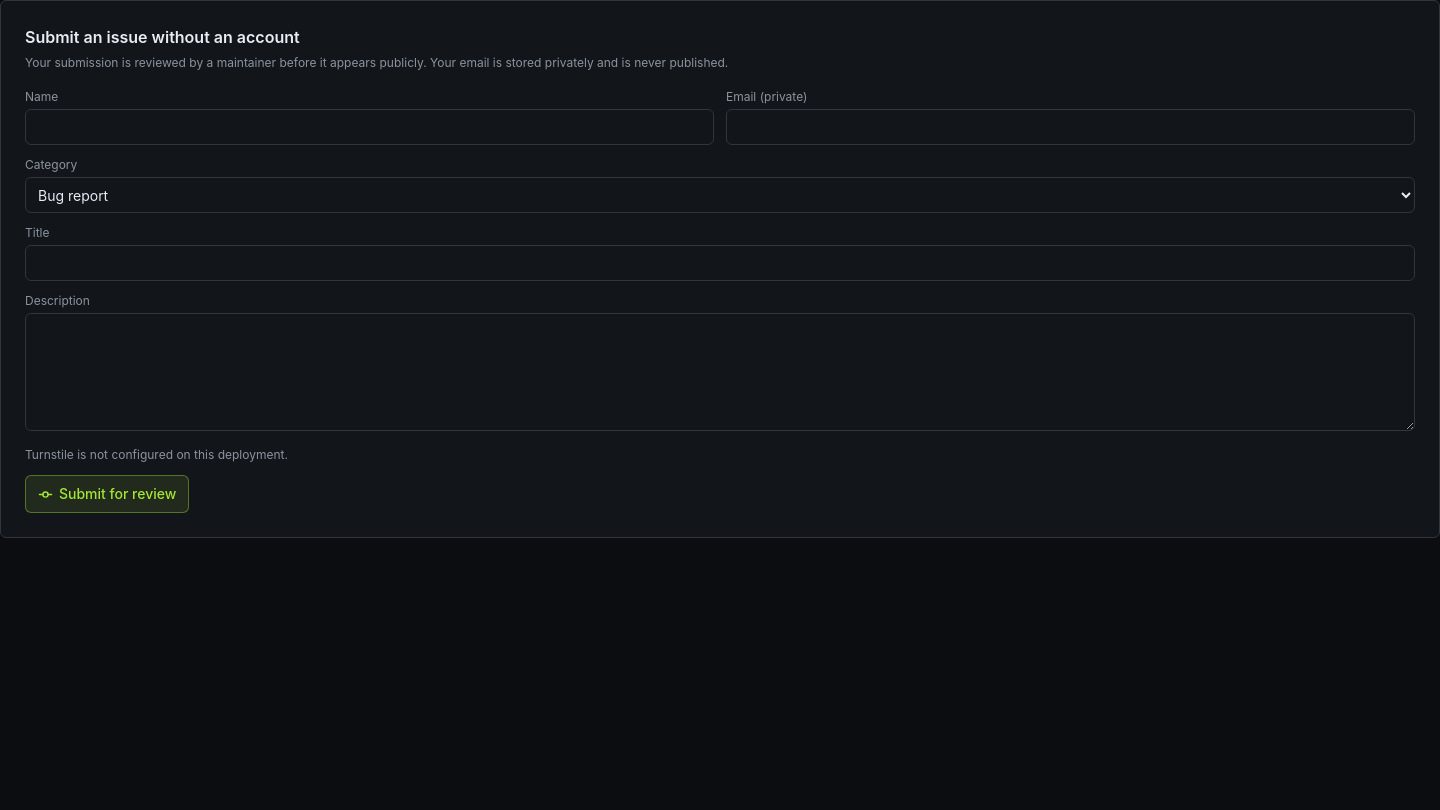
GuestIssueForm › submits a verified request and shows the review notice
The width and height of the screenshot is (1440, 810).
Expected: the button "Submit for review" is shown, [25,475,189,513]
Step 1. Type "Ada" into the field labelled "Name" → (370, 127), box [25,109,714,145]
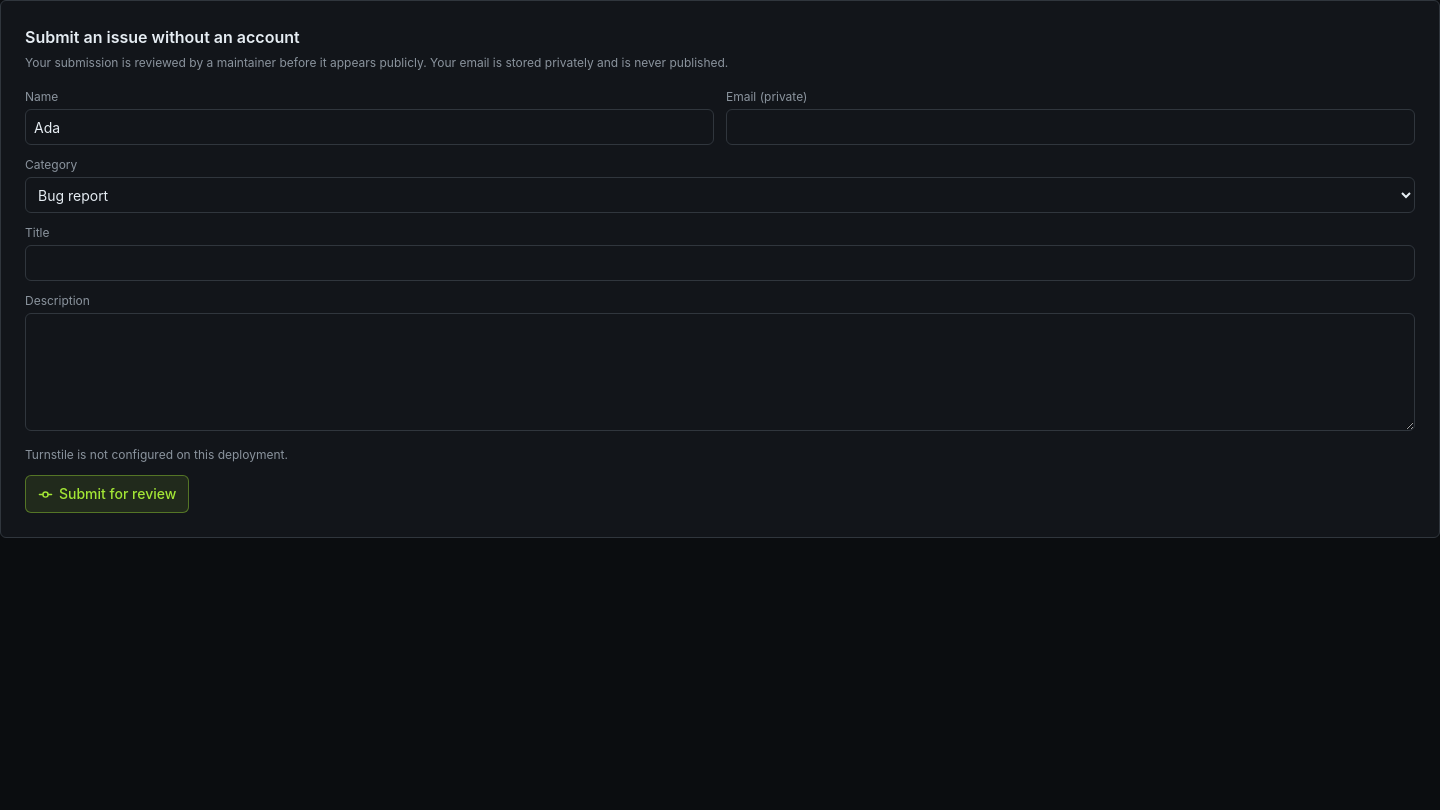
Step 2. Type "ada@example.test" into the field labelled "Email (private)" → (1070, 127), box [726,109,1415,145]
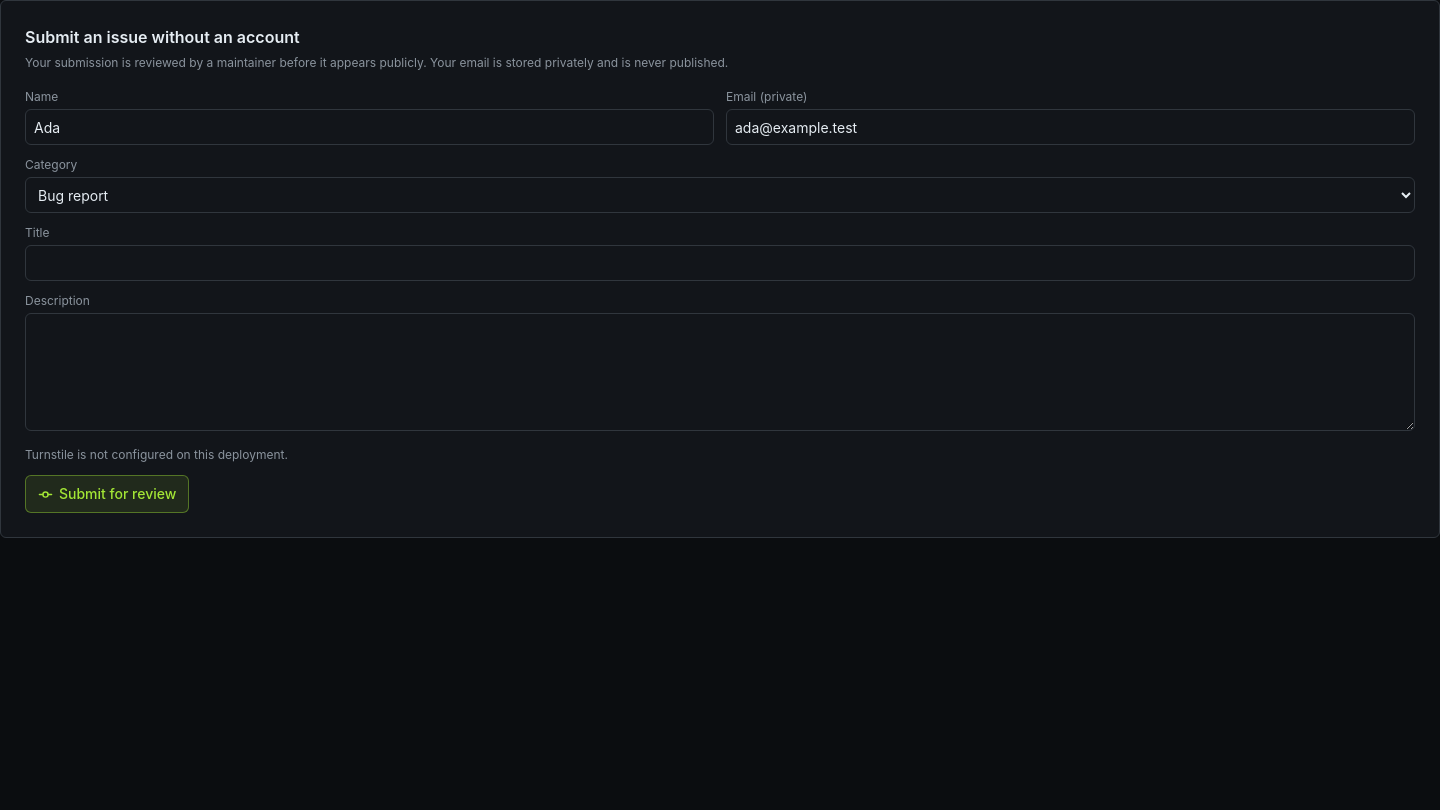
Step 3. Type "Broken" into the field labelled "Title" → (720, 263), box [25,245,1415,281]
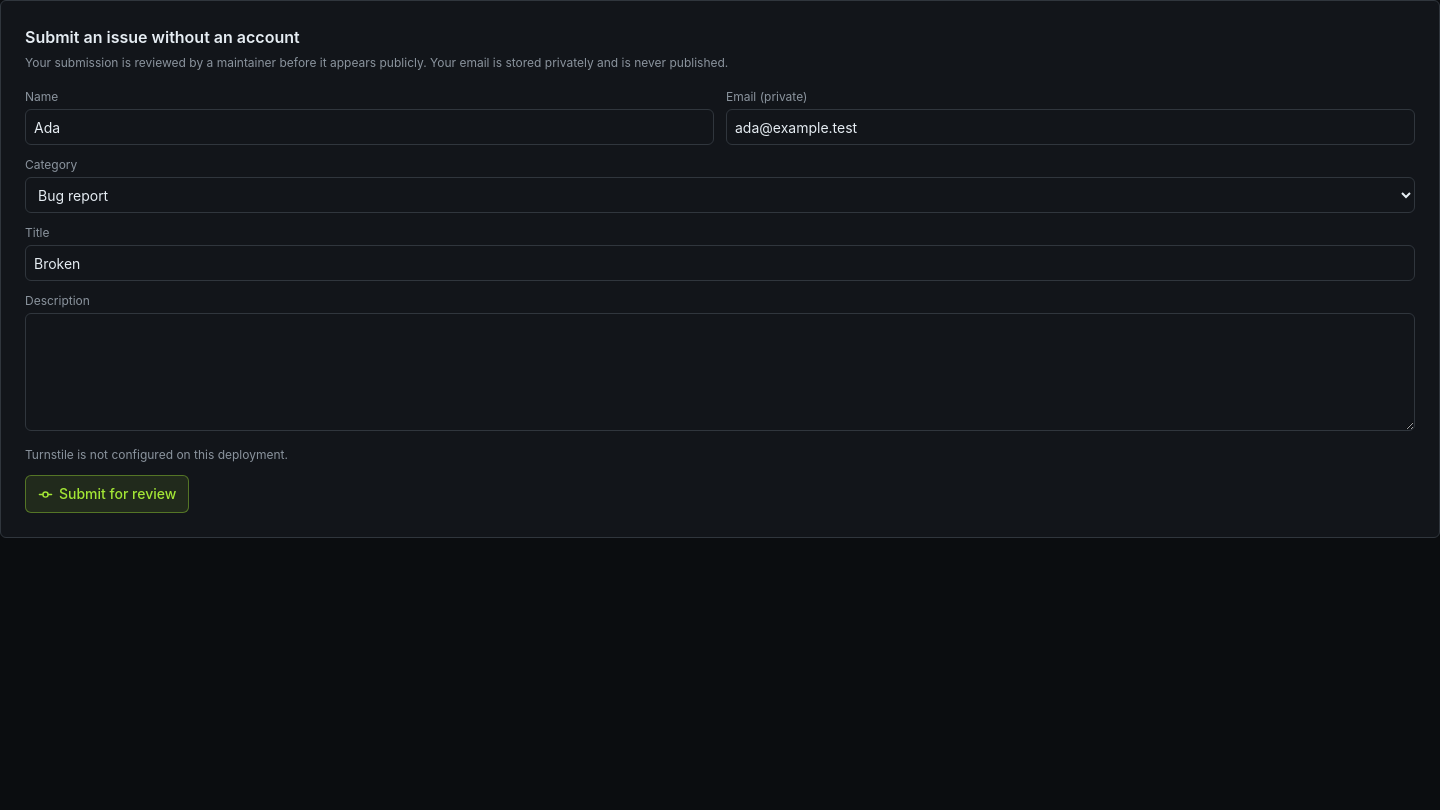
Step 4. Type "Details" into the text box labelled "Description" → (720, 372), box [25,313,1415,431]
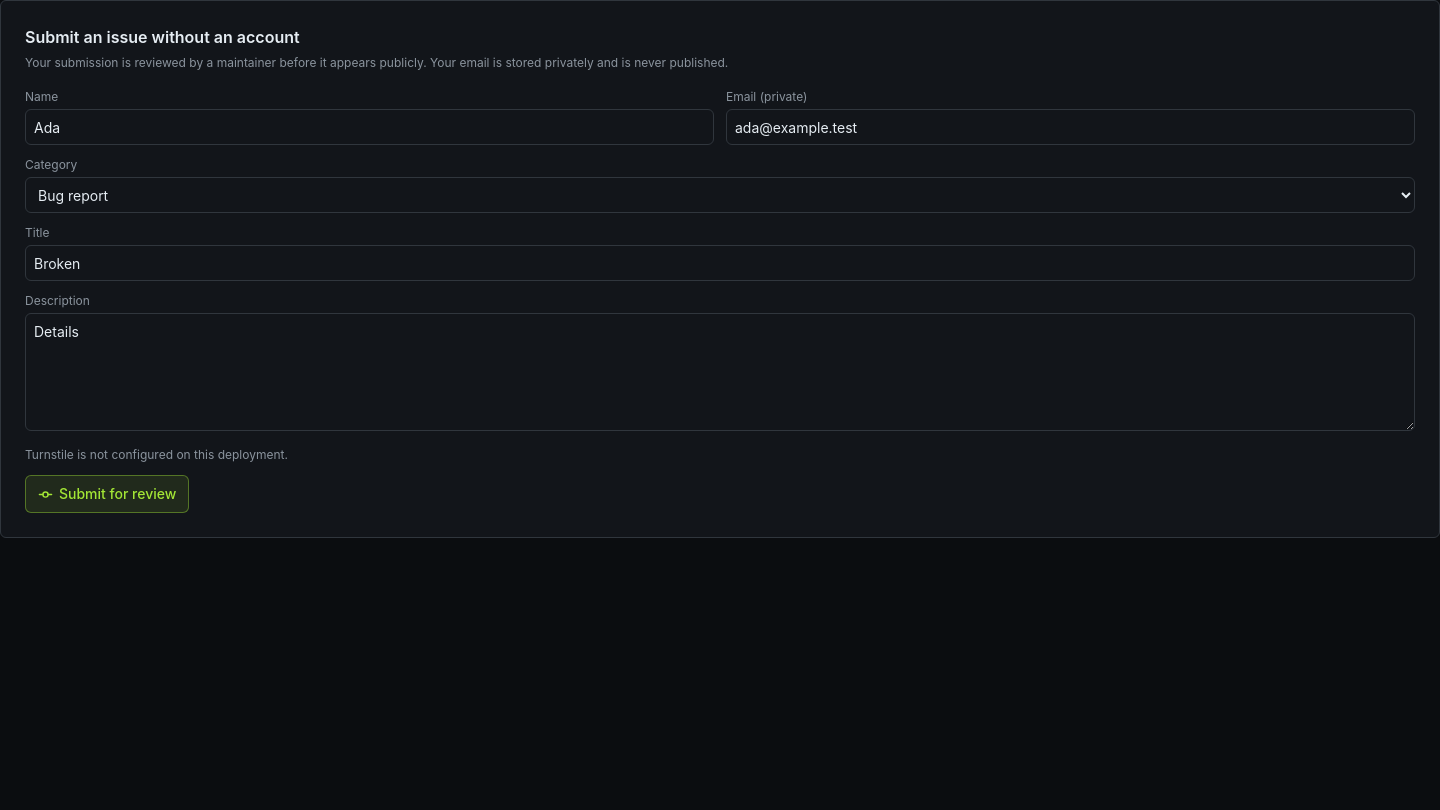
Step 5. Click the button "Submit for review" → (107, 494), box [25,475,189,513]
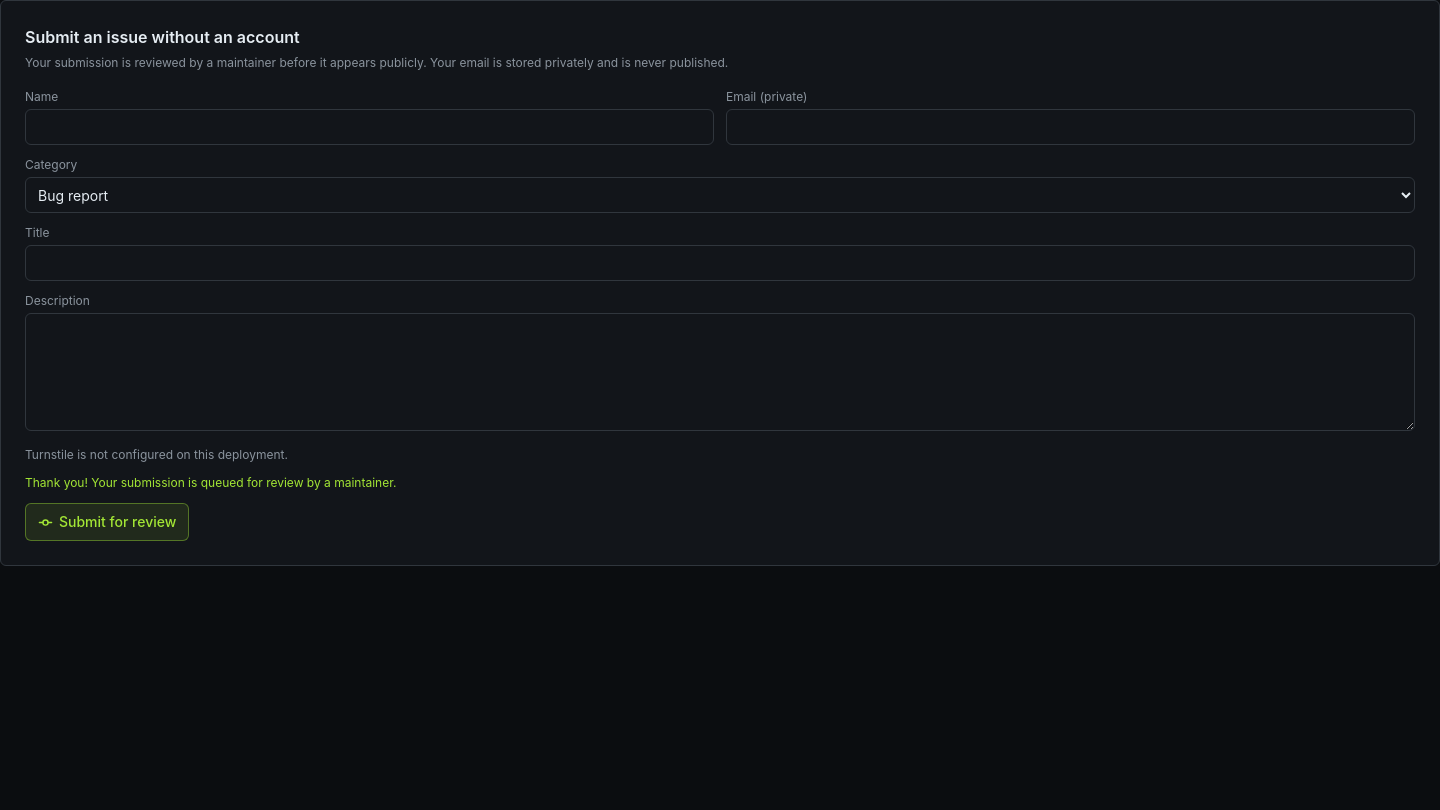
Now the text "queued for review" is shown, box [25,475,396,490]
